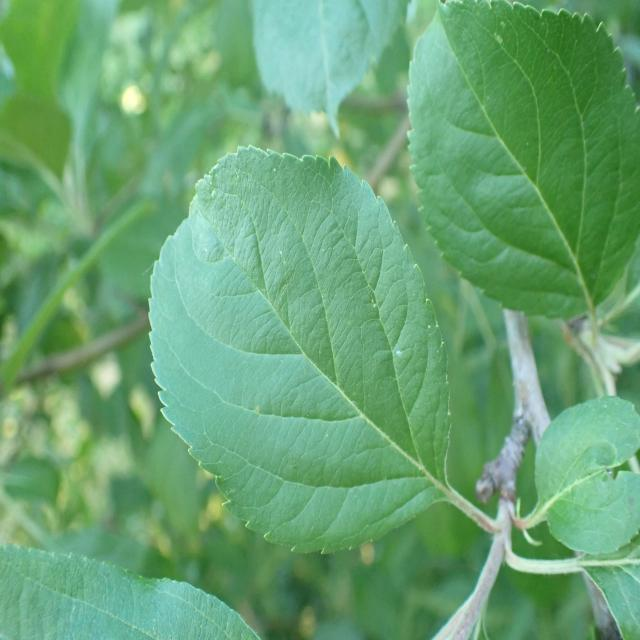healthy: (148, 144, 452, 556), (405, 0, 640, 320), (0, 542, 262, 639), (251, 0, 411, 140), (534, 395, 640, 555)
